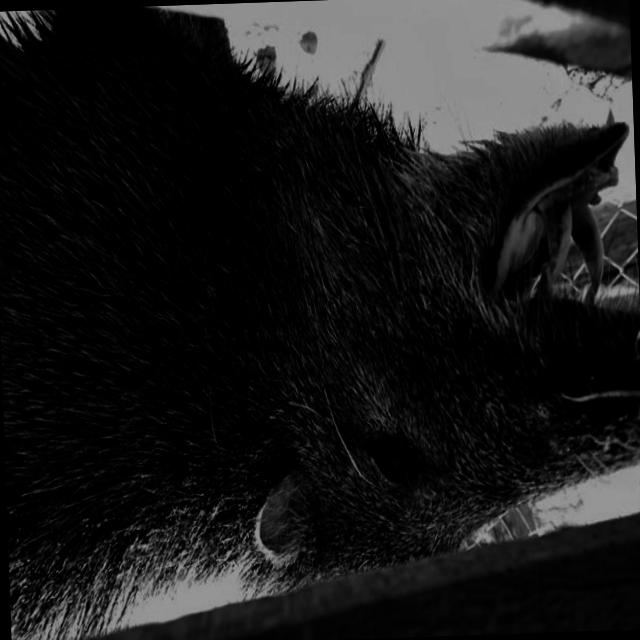pig: (0, 9, 640, 640)
